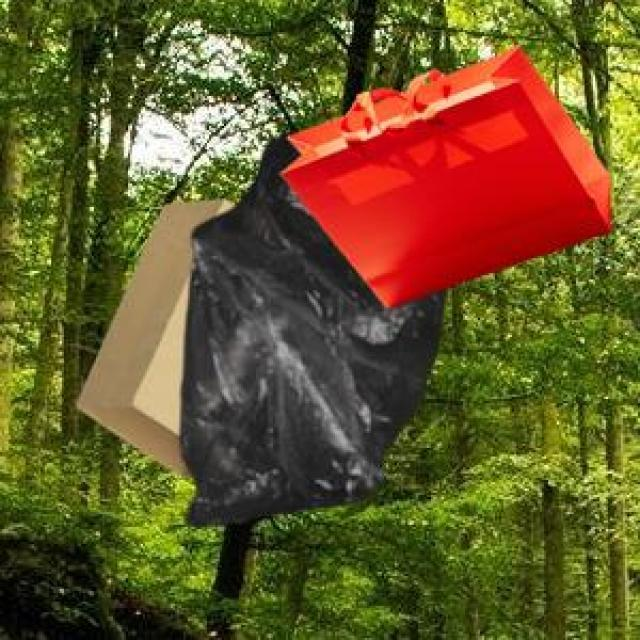paper: (277, 43, 606, 303), (73, 196, 230, 472)
